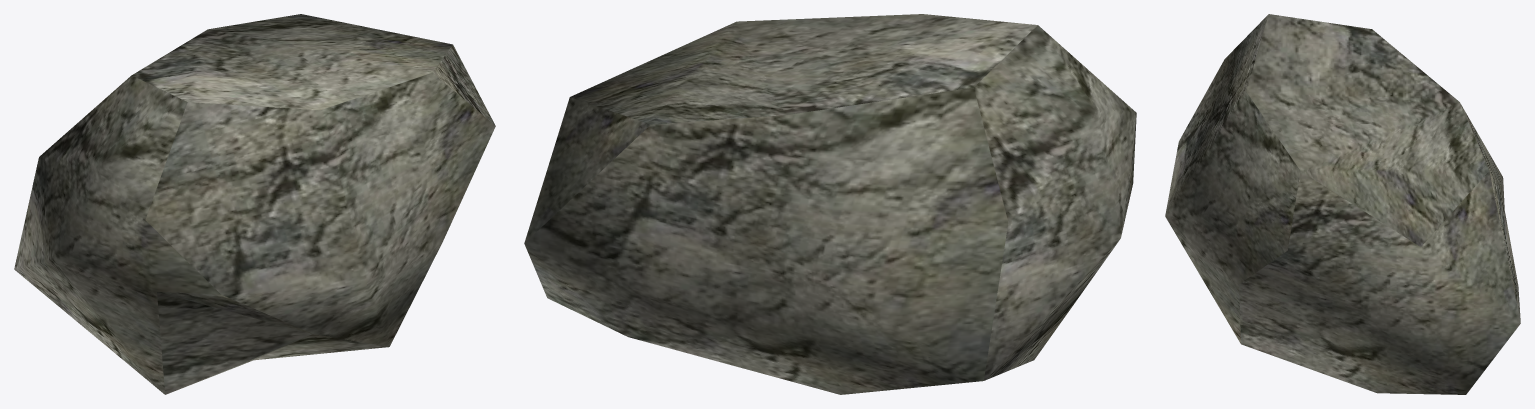
Rendered from MIN_LOB_STONE_V3_30.glb.
3 views of the same model, side by side, from view 1: azimuth 30°, elevation 25°; view 2: azimuth 150°, elevation 25°; view 3: azimuth 270°, elevation 25° (orthographic). The views are drawn at different scales.
Parts seen in each view (by area): view 1: Mesh; view 2: Mesh; view 3: Mesh.
Boxes of the visible parts, x1,y1,x2,y2 form: Mesh: (14, 14, 495, 394); Mesh: (524, 14, 1136, 394); Mesh: (1165, 14, 1520, 394).
Bounding box in the file's own units: 6.94 × 4.36 × 5.25.
1 material, 1 textured.
